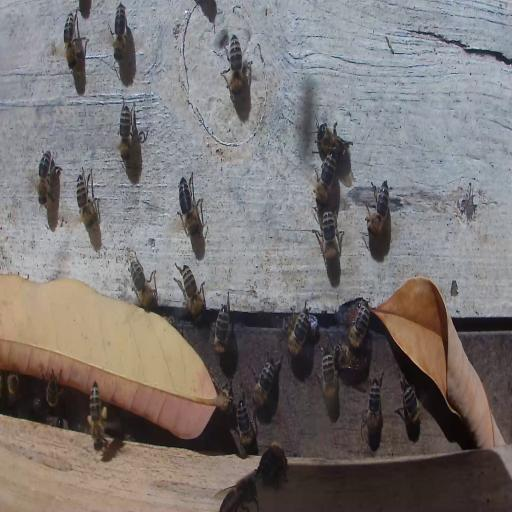bee: (174, 265, 206, 321), (249, 355, 279, 411), (258, 439, 289, 492), (317, 206, 342, 270), (86, 380, 108, 452), (130, 255, 158, 311), (178, 173, 202, 238), (284, 303, 313, 355), (76, 168, 100, 230), (365, 178, 391, 234), (363, 372, 384, 441), (62, 10, 86, 70), (220, 475, 256, 511), (334, 344, 368, 382), (235, 395, 256, 456), (226, 33, 245, 100), (314, 151, 337, 206), (315, 122, 349, 158), (320, 347, 340, 408), (400, 377, 422, 432), (211, 298, 230, 356), (119, 100, 136, 164), (348, 302, 370, 349), (112, 2, 128, 61), (37, 150, 51, 205), (46, 373, 59, 411), (7, 370, 20, 406), (32, 394, 46, 418)
